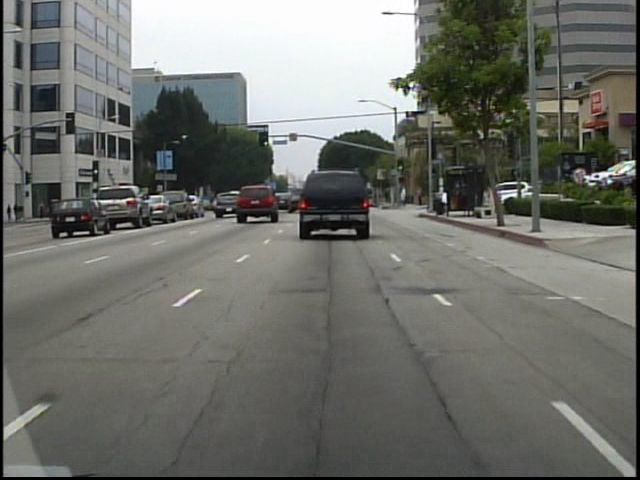person: (399, 184, 412, 210), (416, 181, 427, 209), (383, 184, 394, 208)
